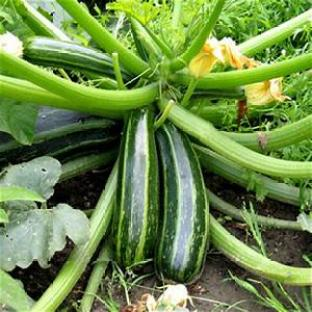Zucchini: (155, 122, 209, 282), (0, 109, 121, 170), (113, 110, 159, 267), (23, 37, 114, 76)
